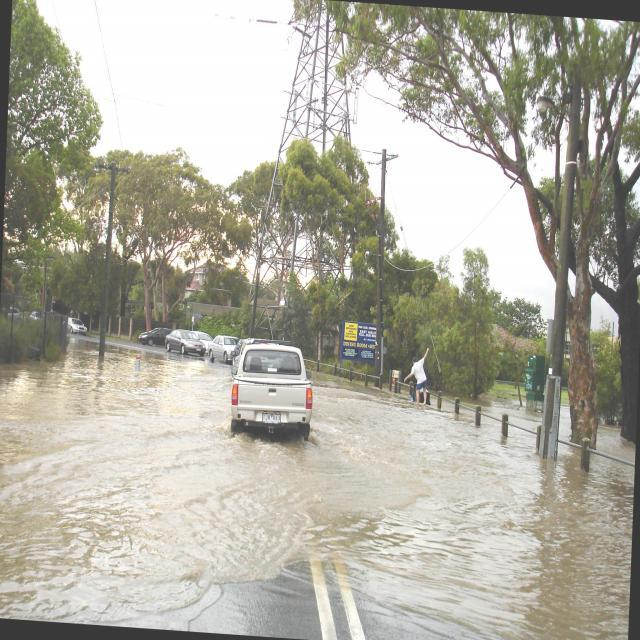flood: (0, 343, 638, 640)
